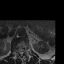CCS_normal: (20, 49, 22, 58)
LFS_severe_stenosis: (23, 49, 25, 54)
LLS_normal: (22, 49, 23, 55)
RFS_severe_stenosis: (16, 50, 18, 55)
RLS_stenosis: (18, 50, 20, 56)
